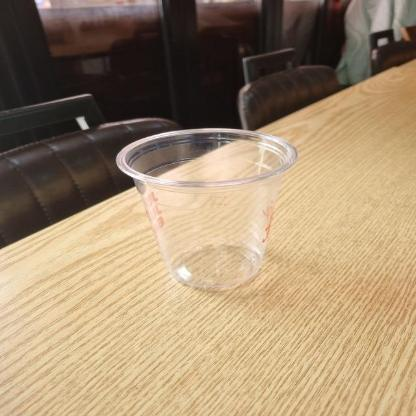Plastic Cup: (107, 122, 311, 294)
